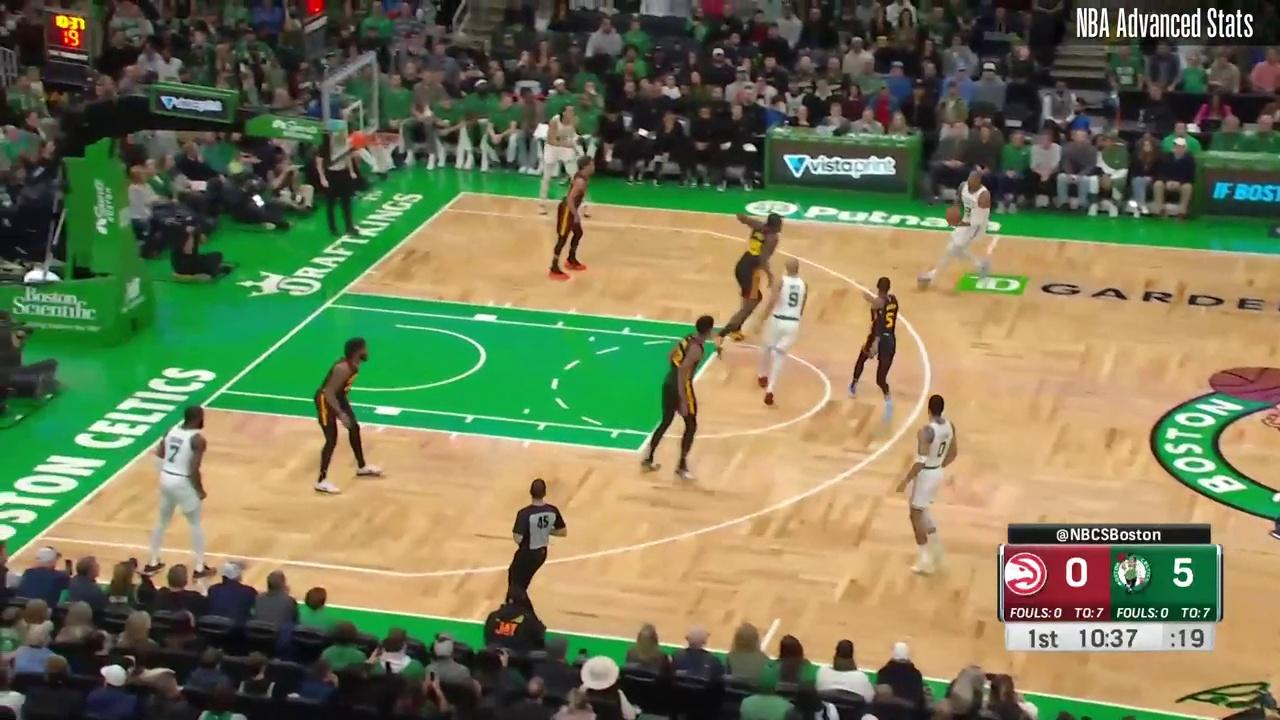3_dx: (439, 203, 450, 215)
3_sx: (32, 530, 46, 544)
b_dx: (457, 188, 468, 198)
free_asx: (634, 446, 644, 457)
free_bdx: (338, 286, 349, 296)
free_bsx: (195, 402, 208, 412)
mid_dx: (984, 248, 994, 258)
mid_sx: (772, 613, 783, 624)
referee: (508, 476, 567, 629), (316, 121, 360, 236)
team: (146, 405, 217, 578), (897, 393, 958, 574), (917, 169, 989, 284), (754, 258, 807, 404), (539, 103, 592, 218)
team1: (642, 315, 714, 480), (312, 336, 382, 495), (713, 211, 784, 356), (849, 276, 899, 419), (547, 154, 594, 281)
timer: (1075, 621, 1140, 651)
